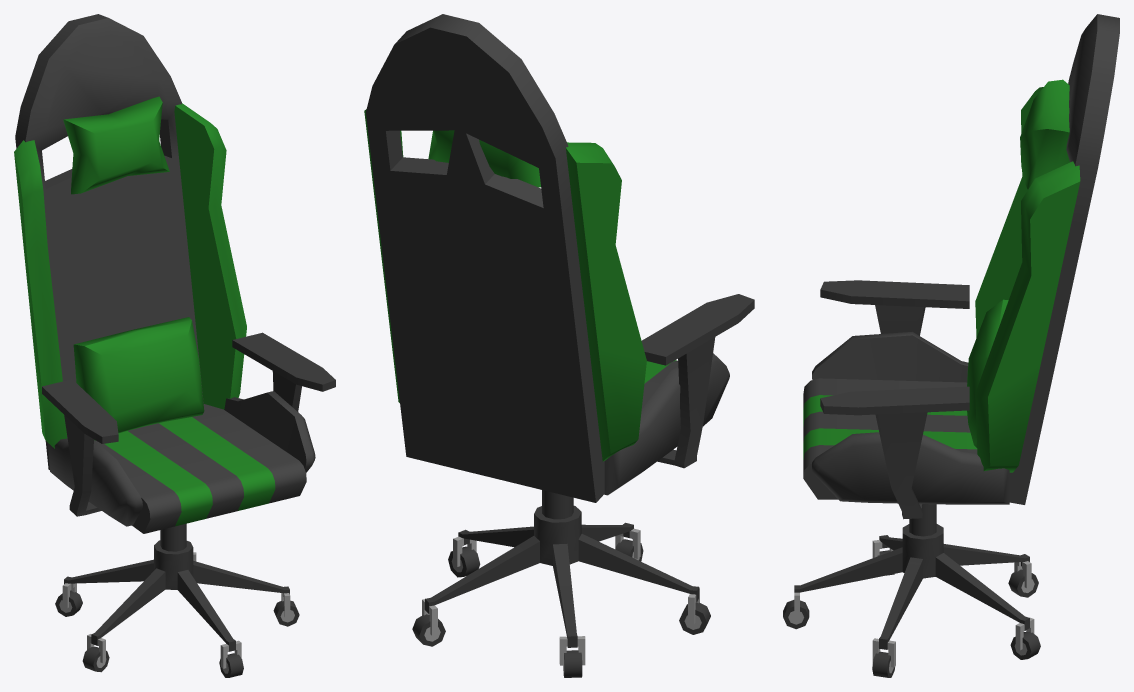
File: office_chair018.glb
3 views of the same model, side by side, from view 1: azimuth 30°, elevation 25°; view 2: azimuth 150°, elevation 25°; view 3: azimuth 270°, elevation 25° (orthographic). The views are drawn at different scales.
Visible parts, largest first — view 1: office_chair.018; view 2: office_chair.018; view 3: office_chair.018.
Part boxes in pixels (x1,y1,x2,y2): office_chair.018: (14, 14, 335, 677); office_chair.018: (364, 14, 754, 677); office_chair.018: (783, 14, 1119, 677).
Size of the model in its own units: 0.5925 by 1.31 by 0.6628.
Materials: 1 (1 with a texture image).
